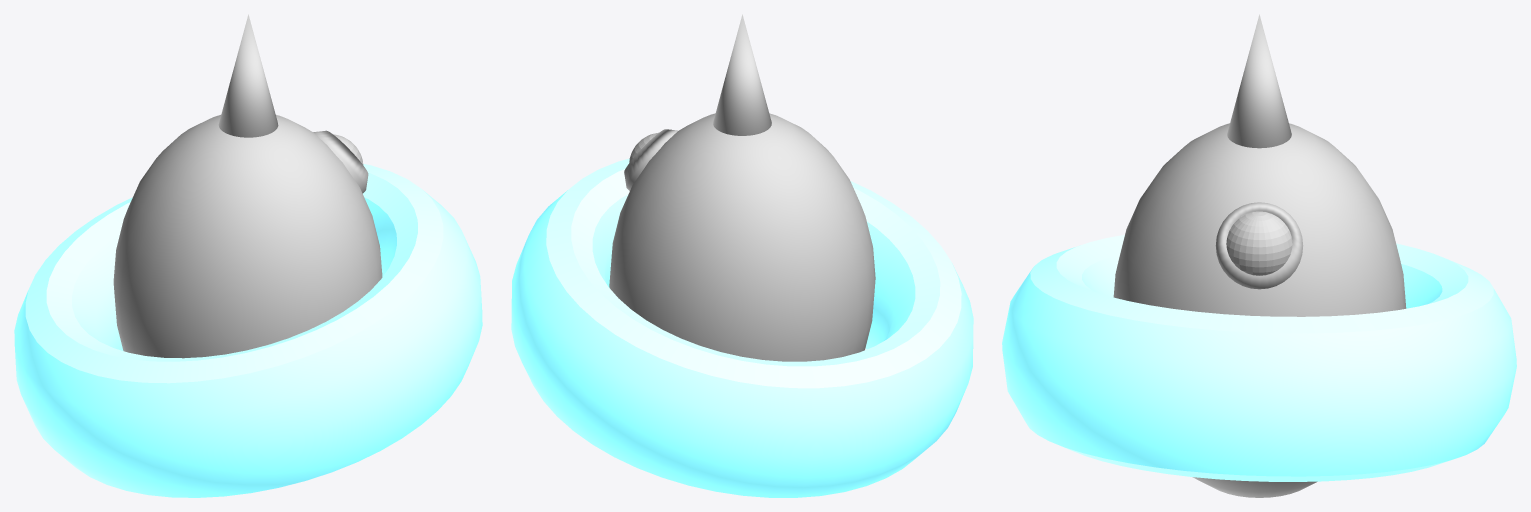
The model's file is Drone.fbx.
3 renders of one model, left to right at view 1: azimuth 30°, elevation 25°; view 2: azimuth 150°, elevation 25°; view 3: azimuth 270°, elevation 25°, orthographic. The views are drawn at different scales.
Visible parts, largest first — view 1: Torus, Cone; view 2: Torus, Cone; view 3: Torus, Cone.
Part boxes in pixels (x1,y1,x2,y2): Torus: (14,164,482,497); Cone: (113,14,382,358); Torus: (511,158,973,497); Cone: (609,14,875,361); Torus: (1002,234,1516,481); Cone: (1113,14,1406,497).
Bounding box in the file's own units: 765 × 788 × 776.
